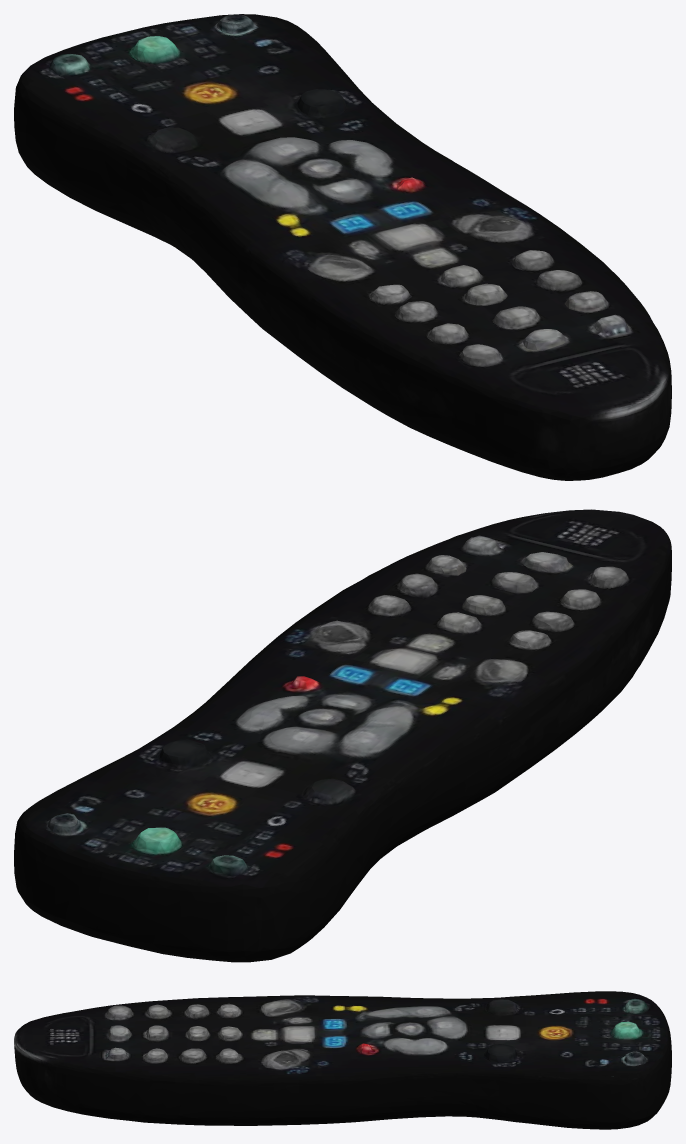
3 views of the same model, one above another, from view 1: azimuth 30°, elevation 25°; view 2: azimuth 150°, elevation 25°; view 3: azimuth 270°, elevation 25° (orthographic). The views are drawn at different scales.
Visible parts, largest first — view 1: geometry_0; view 2: geometry_0; view 3: geometry_0.
Part boxes in pixels (<box>): geometry_0: <box>14,14,671,480</box>; geometry_0: <box>14,509,671,962</box>; geometry_0: <box>14,991,671,1129</box>.
Size of the model in its own units: 0.3244 by 0.1069 by 0.9997.
1 material, 1 textured.
